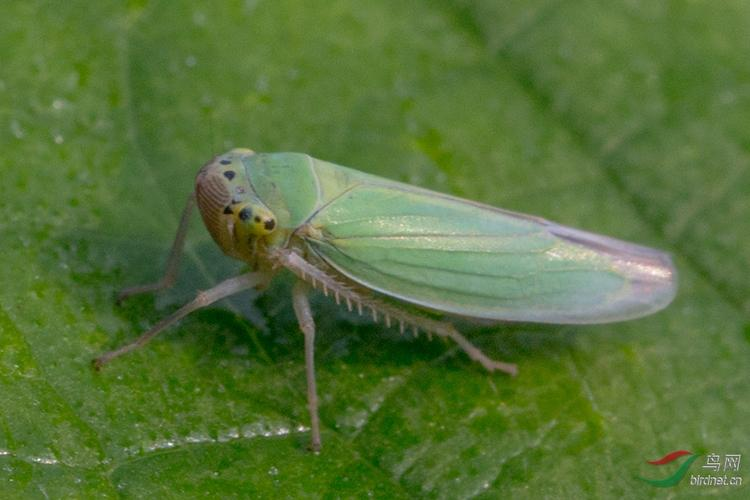Cicadellidae: (91, 148, 679, 451)
